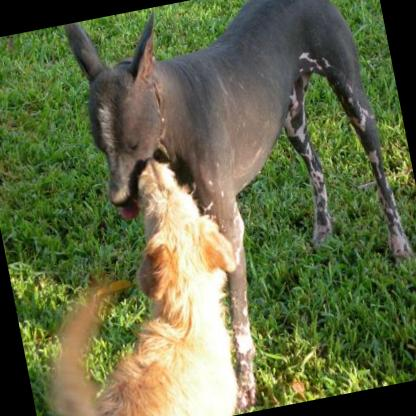Mexican_hairless: (61, 0, 416, 416)
